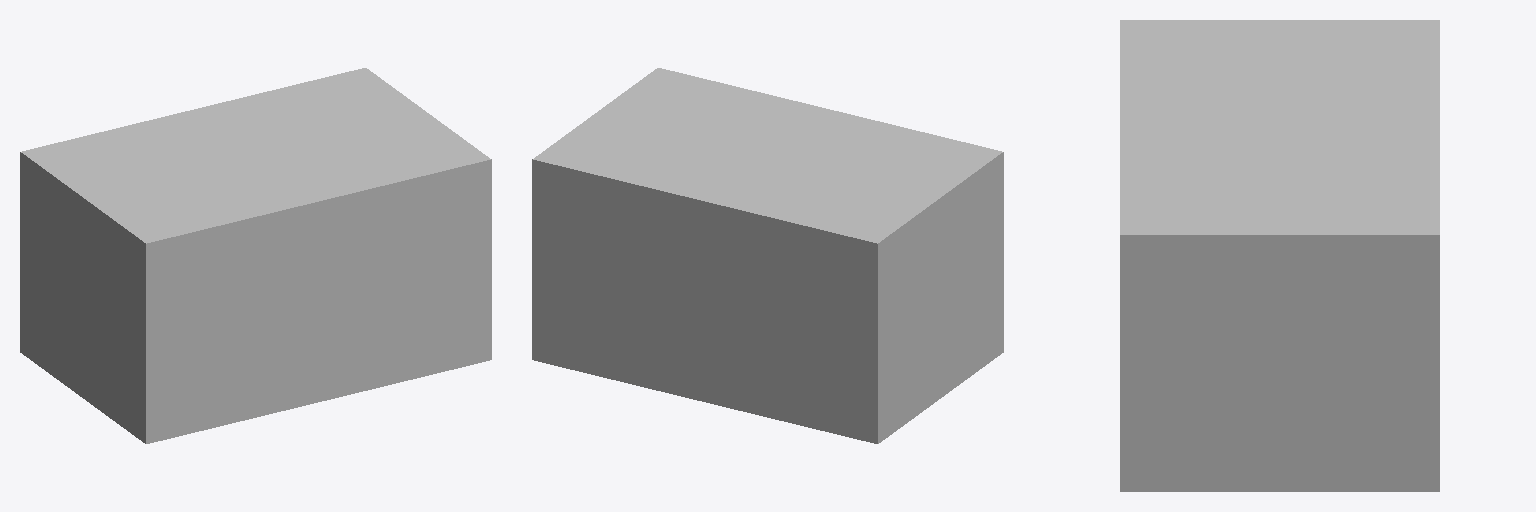
URDF robot description (torsby_table):
<?xml version="1.0"?>

<robot name="torsby_table">
    <link name="torsby_table">
        <visual>
          <geometry>
            <box size="1.35 0.85 0.75"/>
           </geometry>
           <origin rpy="0 0 0" xyz="0 0 0.375"/>
          <material name="black">
            <color rgba=".8 .8 .8 1"/>
          </material>
        </visual>
        <collision>
          <geometry>
            <box size="1.35 0.85 0.75"/>
           </geometry>
           <origin rpy="0 0 0" xyz="0 0 0.375"/>
           <contact_coefficients mu="1000.0" kp="0.0" kd="0.0"/>
        </collision>
        <inertial>
          <mass value="25"/>
          <inertia ixx="0.01" ixy="0.0" ixz="0.0" iyy="0.01" iyz="0.0" izz="0.01"/>
        </inertial>
    </link>
</robot>

--- Facts derived from the render (not from the file) ---
Views: 3 orthographic renders of the robot side by side, from view 1: azimuth 30°, elevation 25°; view 2: azimuth 150°, elevation 25°; view 3: azimuth 270°, elevation 25°.
Robot: torsby_table — 1 links, 0 joints (none); root link torsby_table; default pose: every joint at zero.
Links seen in each view (by area): view 1: torsby_table; view 2: torsby_table; view 3: torsby_table.
Link boxes in pixels (x1,y1,x2,y2): torsby_table: (20, 68, 491, 443); torsby_table: (532, 68, 1003, 443); torsby_table: (1120, 20, 1439, 491).
Bounding box of the posed robot: 1.35 × 0.85 × 0.75 m (x, y, z).
Geometry: primitives only (box / cylinder / sphere), no mesh files.
